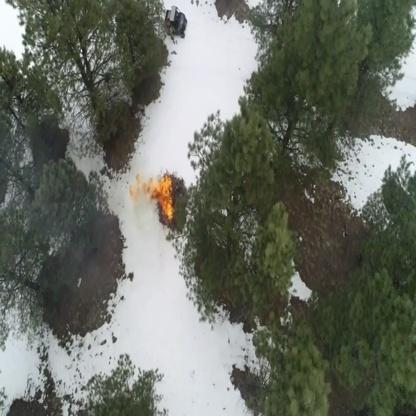Fire: (128, 171, 175, 223)
